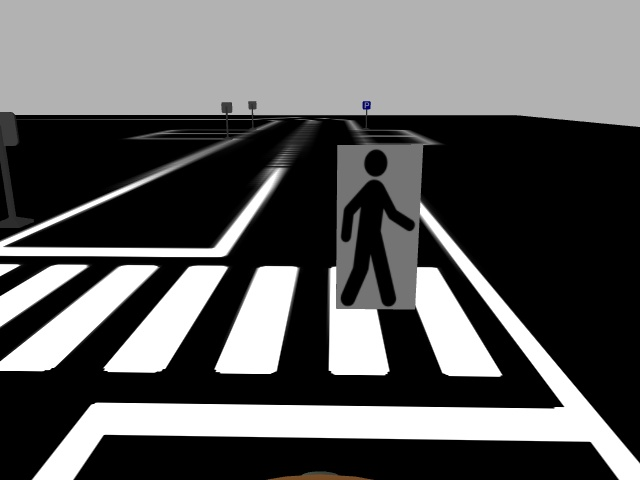parking: (362, 99, 371, 111)
pedestrian: (334, 142, 424, 310)
